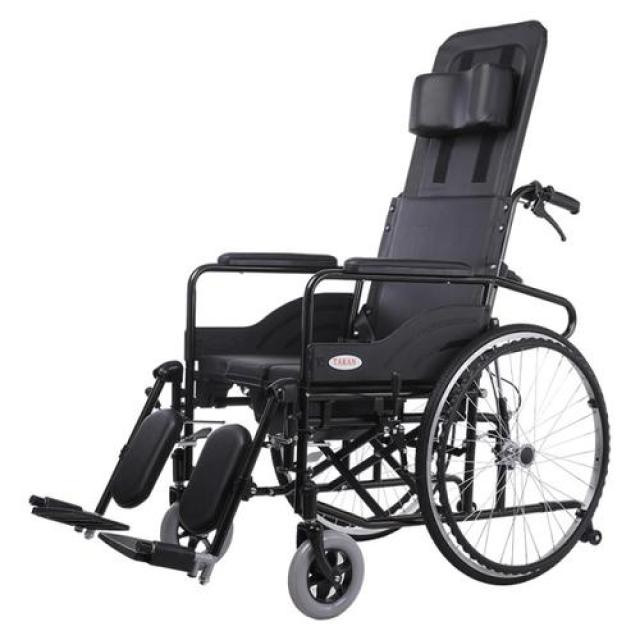wheelchairs: (26, 14, 615, 624)
